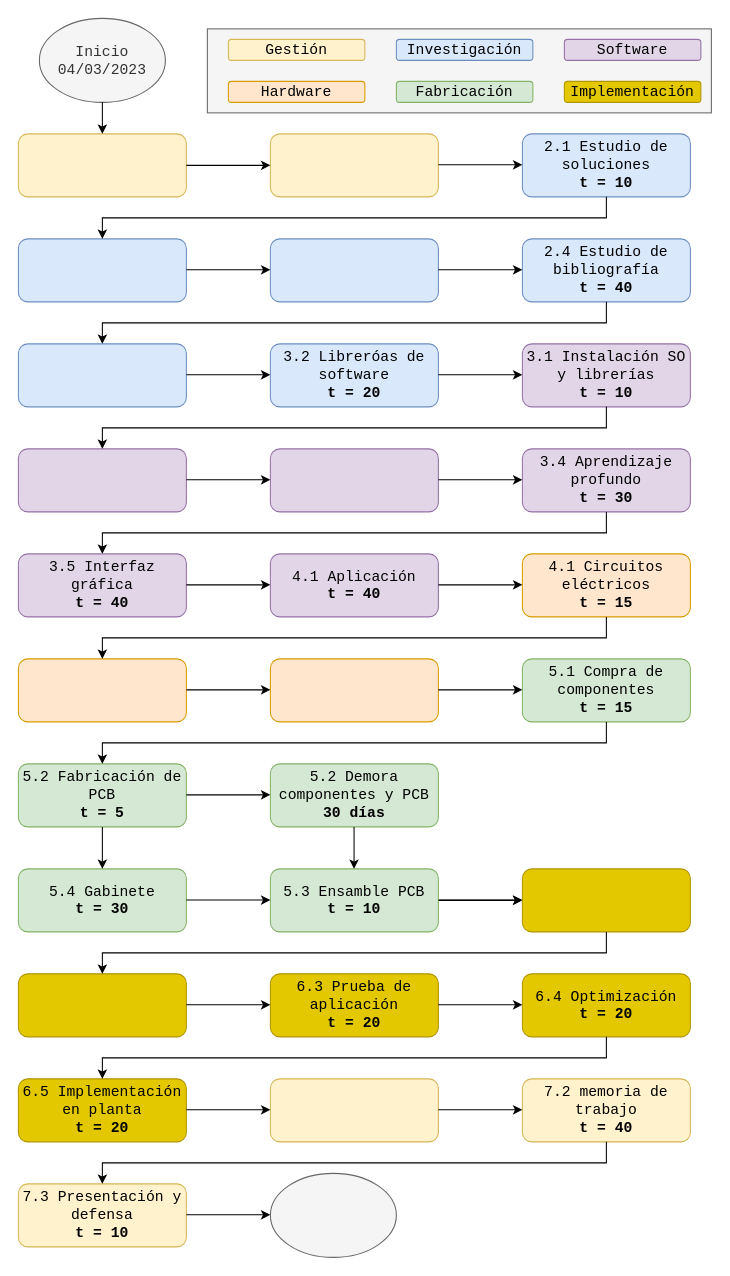
This 730x1276 diagram has some shape labels left out. The shapes that lost their labels are listed below. From the top down, each one's centre as x and y in pixels, then its label:
At [101,165]: "1.1 Plan de trabajo t = 10".
At [353,165]: "1.2 Reuniones con director t = 30".
At [101,270]: "2.2 Estudio Raspberry Pi t = 10".
At [353,270]: "2.3 Componentes de desarrollo t = 20".
At [101,375]: "2.5 Hojas de datos t = 5".
At [101,480]: "3.2 Pruebas de librerías t = 20".
At [353,480]: "3.3 Módulo de visión t = 60".
At [101,690]: "4.2 Diseño de PCB t = 15".
At [353,690]: "4.3 Archivos de fabricación t = 15".
At [605,900]: "6.1 Pruebas eléctricas t = 10".
At [101,1005]: "6.2 Interfaz de usuario t = 20".
At [353,1110]: "7.1 Informe de avance t = 10".
At [332,1214]: "Fin 30/11/2023".
